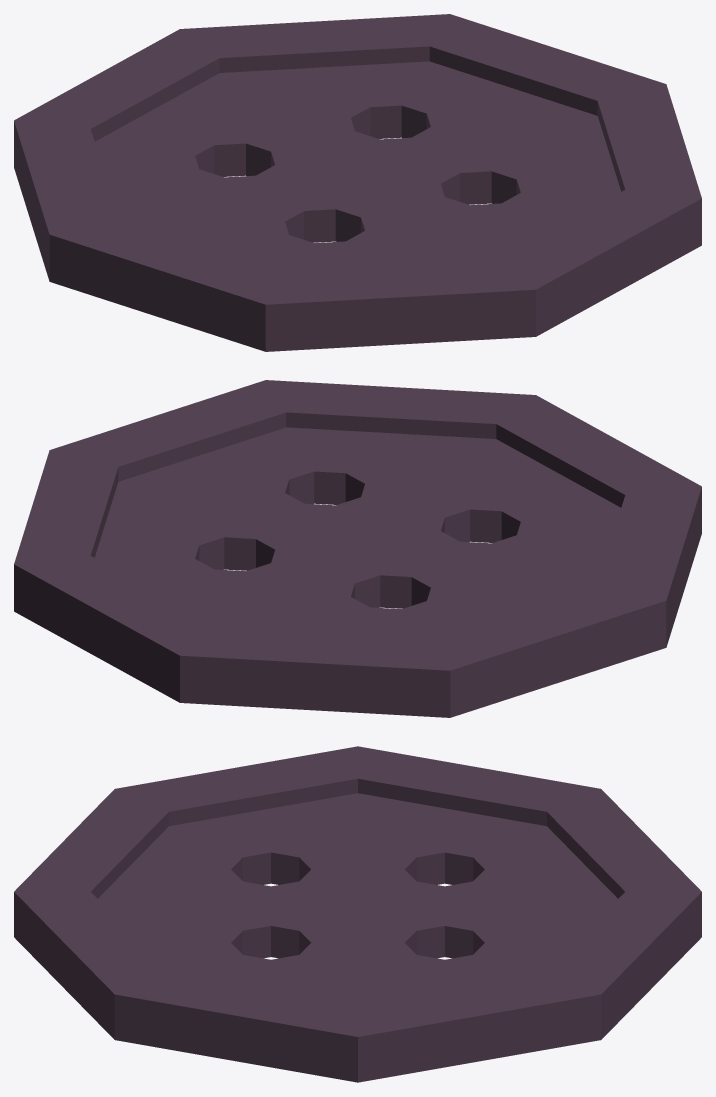
File: SM_Button_02.fbx
The picture shows the model from 3 angles, top to bottom: view 1: azimuth 30°, elevation 25°; view 2: azimuth 150°, elevation 25°; view 3: azimuth 270°, elevation 25°; orthographic projection. The views are drawn at different scales.
Visible parts, largest first — view 1: Button_02; view 2: Button_02; view 3: Button_02.
Boxes of the visible parts, bbox=[...] form: Button_02: bbox=[14, 14, 701, 351]; Button_02: bbox=[14, 380, 701, 717]; Button_02: bbox=[14, 746, 701, 1082].
Size of the model in its own units: 87.4 by 6.39 by 87.4.
